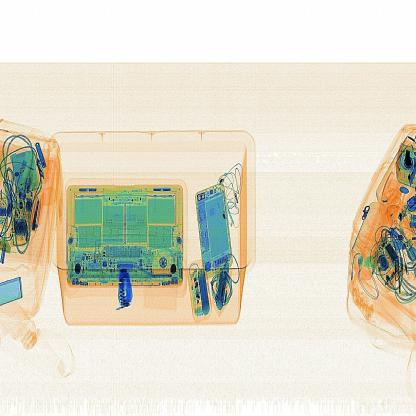scissors: (112, 260, 145, 316)
